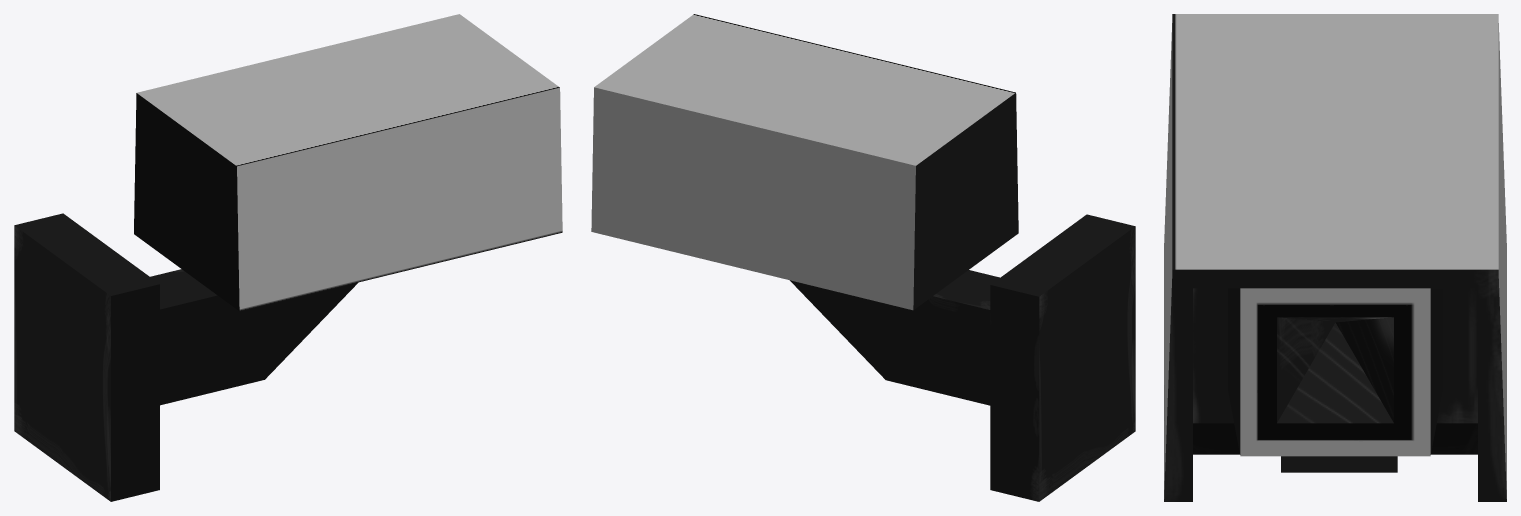
File: telecamera.FBX
The picture shows the model from 3 angles, left to right: view 1: azimuth 30°, elevation 25°; view 2: azimuth 150°, elevation 25°; view 3: azimuth 270°, elevation 25°; orthographic projection. The views are drawn at different scales.
Parts seen in each view (by area): view 1: Object001, testa telecamera; view 2: Object001, testa telecamera; view 3: Object001, testa telecamera.
Part boxes in pixels (left/top/right/bottom): Object001: left=134, top=14, right=562, bottom=311; testa telecamera: left=14, top=213, right=358, bottom=501; Object001: left=591, top=14, right=1018, bottom=310; testa telecamera: left=790, top=214, right=1135, bottom=501; Object001: left=1164, top=14, right=1506, bottom=501; testa telecamera: left=1193, top=423, right=1477, bottom=472.
Bounding box in the file's own units: 0.6666 × 0.4397 × 0.2736.
